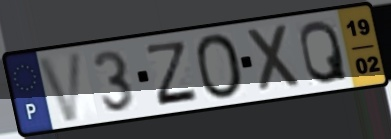3: (92, 48, 137, 114)
O: (193, 31, 248, 100)
Q: (297, 17, 351, 86)
V: (34, 48, 86, 124)
X: (244, 21, 305, 96)
Z: (144, 40, 202, 109)
